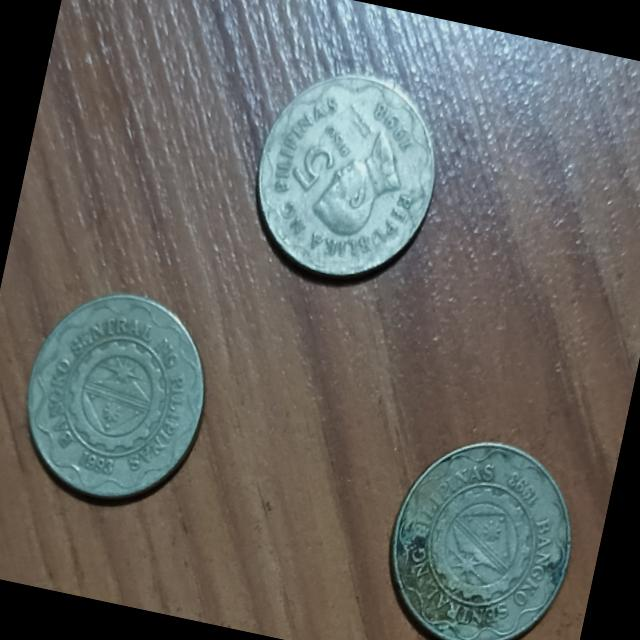5_peso: (257, 74, 433, 276), (27, 293, 202, 496), (390, 442, 569, 640)
